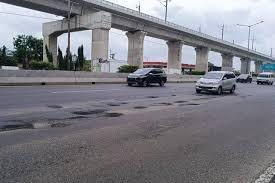Pothole: (69, 105, 124, 127), (0, 112, 36, 142), (40, 116, 92, 133), (146, 99, 170, 112), (41, 96, 63, 109), (171, 98, 201, 107), (108, 98, 129, 110), (141, 92, 161, 102), (132, 103, 147, 116), (170, 89, 179, 101)
